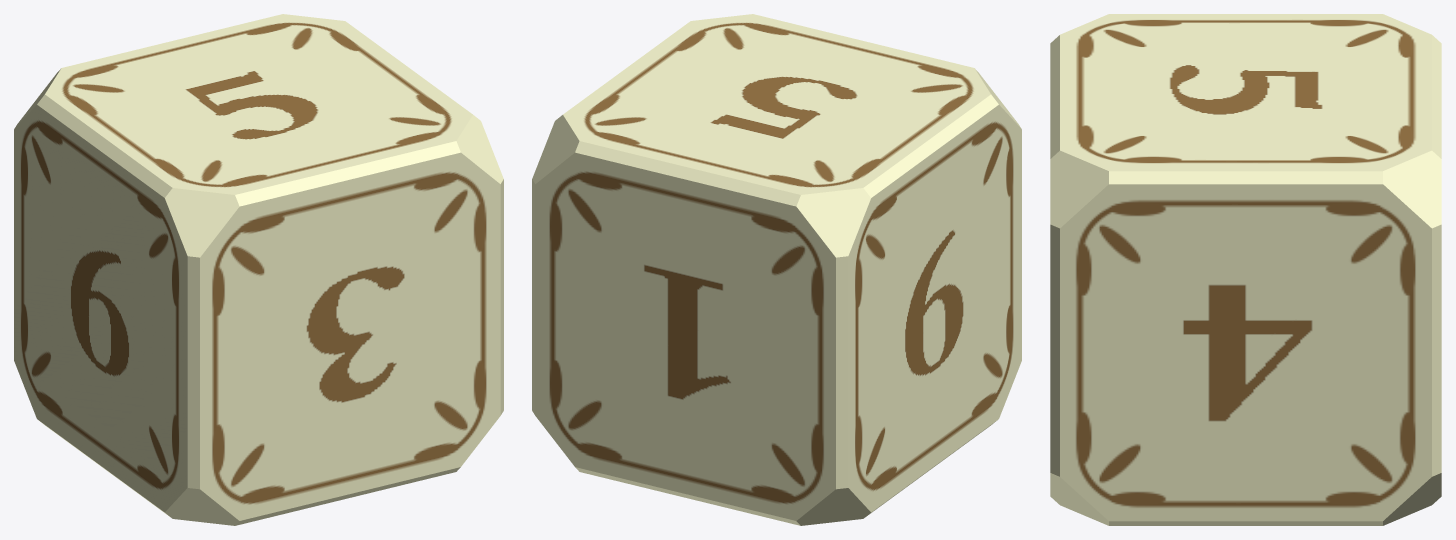
File: dice.fbx
3 renders of one model, left to right at view 1: azimuth 30°, elevation 25°; view 2: azimuth 150°, elevation 25°; view 3: azimuth 270°, elevation 25°, orthographic. The views are drawn at different scales.
Parts seen in each view (by area): view 1: 骰子; view 2: 骰子; view 3: 骰子.
Part boxes in pixels (x1,y1,x2,y2): 骰子: [14, 14, 503, 525]; 骰子: [532, 14, 1021, 525]; 骰子: [1050, 14, 1441, 525].
Size of the model in its own units: 120 by 120 by 120.
1 material, 1 textured.
